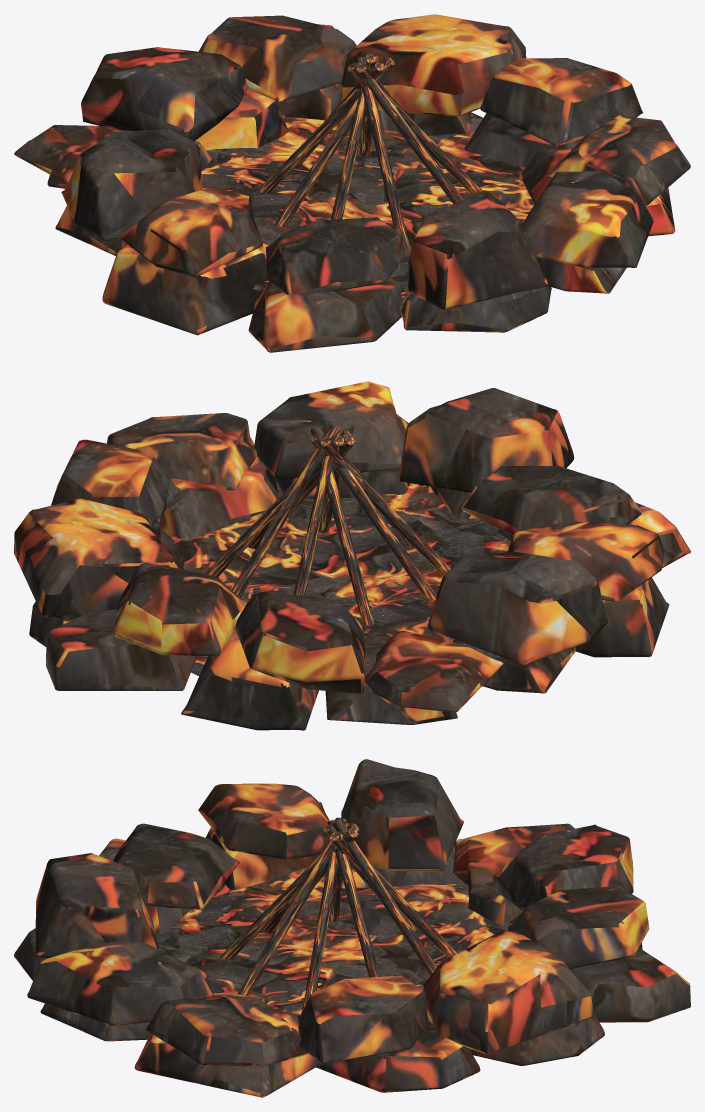
The model's file is campfire.fbx.
3 views of the same model, one above another, from view 1: azimuth 30°, elevation 25°; view 2: azimuth 150°, elevation 25°; view 3: azimuth 270°, elevation 25° (orthographic). The views are drawn at different scales.
Visible parts, largest first — view 1: Rocks, ground, Cylinder.005, Cylinder.007, Cylinder.004, Cylinder.008, Cylinder.006, Cylinder.003, Cylinder.001; view 2: Rocks, ground, Cylinder.001, Cylinder.007, Cylinder.008, Cylinder.006, Cylinder, Cylinder.002, Cylinder.003; view 3: Rocks, ground, Cylinder.004, Cylinder.001, Cylinder.003, Cylinder.002, Cylinder.005, Cylinder, Cylinder.008.
Part boxes in pixels (left/top/right/bottom): Rocks: left=14, top=14, right=690, bottom=352; ground: left=201, top=112, right=534, bottom=302; Cylinder.005: left=355, top=56, right=410, bottom=253; Cylinder.007: left=274, top=57, right=392, bottom=226; Cylinder.004: left=355, top=60, right=463, bottom=203; Cylinder.008: left=257, top=57, right=394, bottom=193; Cylinder.006: left=330, top=55, right=378, bottom=219; Cylinder.003: left=347, top=63, right=482, bottom=195; Cylinder.001: left=359, top=54, right=376, bottom=155; Rocks: left=14, top=381, right=690, bottom=730; ground: left=167, top=481, right=511, bottom=675; Cylinder.001: left=231, top=424, right=339, bottom=597; Cylinder.007: left=310, top=427, right=436, bottom=600; Cylinder.008: left=310, top=427, right=374, bottom=625; Cylinder.006: left=310, top=433, right=450, bottom=575; Cylinder: left=293, top=427, right=340, bottom=595; Cylinder.002: left=205, top=430, right=352, bottom=577; Cylinder.003: left=248, top=435, right=355, bottom=548; Rocks: left=14, top=759, right=690, bottom=1097; ground: left=155, top=867, right=508, bottom=1050; Cylinder.004: left=237, top=820, right=349, bottom=996; Cylinder.001: left=331, top=818, right=436, bottom=975; Cylinder.003: left=302, top=817, right=346, bottom=1011; Cylinder.002: left=327, top=819, right=380, bottom=977; Cylinder.005: left=220, top=823, right=359, bottom=959; Cylinder: left=323, top=824, right=457, bottom=958; Cylinder.008: left=329, top=832, right=416, bottom=931.
Bounding box in the file's own units: 344 × 99.25 × 366.
